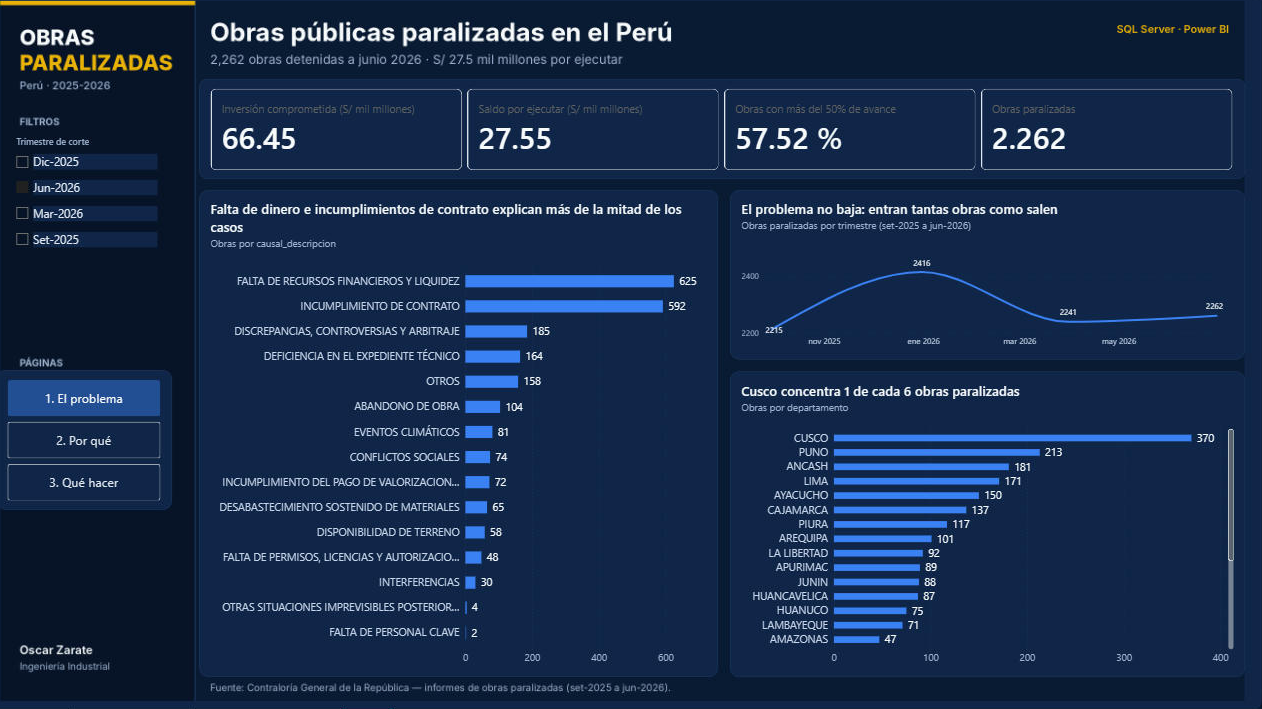

Layout of this report page (visuals, bound fields, positions):
{"tool":"powerbi","page":{"name":"1. El problema","canvas":[1920,1080],"ordinal":0},"visuals":[{"type":"image","box":[0,0,1920,1080],"z":0},{"type":"cardVisual","fields":{"Data":["dw fact_obra_corte.Inversion S/ M","dw fact_obra_corte.Saldo S/ M","dw fact_obra_corte.Pct avance mayor 50","dw dim_causal.Obras paralizadas"]},"box":[324,132,1572,150],"z":1000},{"type":"slicer","fields":{"Values":["dw dim_corte.etiqueta"]},"box":[24,204,252,225],"z":2000},{"type":"barChart","title":"Falta de dinero e incumplimientos de contrato explican más de la mitad de los casos","fields":{"Category":["dw dim_causal.causal_descripcion"],"Y":["dw fact_obra_corte.Obras"]},"box":[324,300,780,732],"z":3000},{"type":"barChart","title":"Cusco concentra 1 de cada 6 obras paralizadas","fields":{"Category":["dw dim_ubicacion.departamento"],"Y":["dw fact_obra_corte.Obras"]},"box":[1122,573,774,459],"z":4000},{"type":"lineChart","title":"El problema no baja: entran tantas obras como salen","fields":{"Category":["dw dim_corte.fecha_corte"],"Y":["dw fact_obra_corte.Obras"]},"box":[1122,300,774,255],"z":4001},{"type":"pageNavigator","box":[18,570,264,210],"z":4002}]}

Visuals, with their boxes on the page's 1920x1080 design canvas (x1, y1, x2, y2). These are canvas units, not pixel positions in the 1262x709 screenshot, which may show the page scaled, cropped or inside an application window:
image: (0, 0, 1920, 1080)
cardVisual - dw fact_obra_corte.Inversion S/ M x dw fact_obra_corte.Saldo S/ M: (324, 132, 1896, 282)
slicer - dw dim_corte.etiqueta: (24, 204, 276, 429)
"Falta de dinero e incumplimientos de contrato explican más de la mitad de los casos" barChart: (324, 300, 1104, 1032)
"Cusco concentra 1 de cada 6 obras paralizadas" barChart: (1122, 573, 1896, 1032)
"El problema no baja: entran tantas obras como salen" lineChart: (1122, 300, 1896, 555)
pageNavigator: (18, 570, 282, 780)
